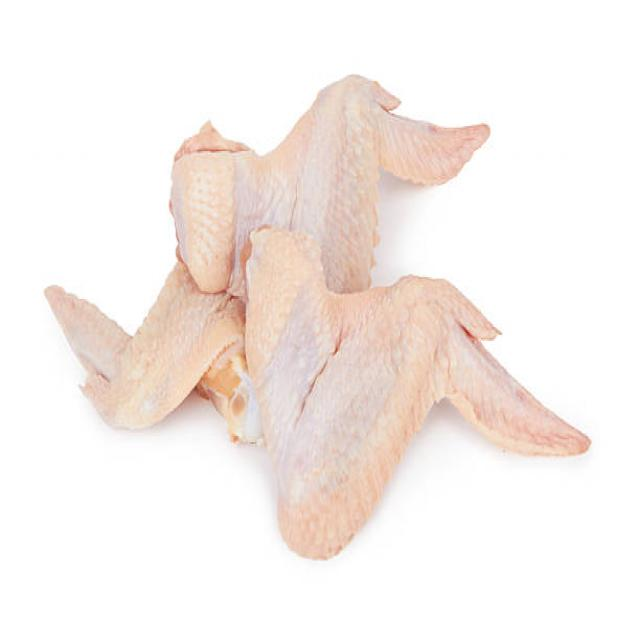chicken: (240, 235, 602, 561), (179, 75, 491, 274), (34, 270, 252, 450)
